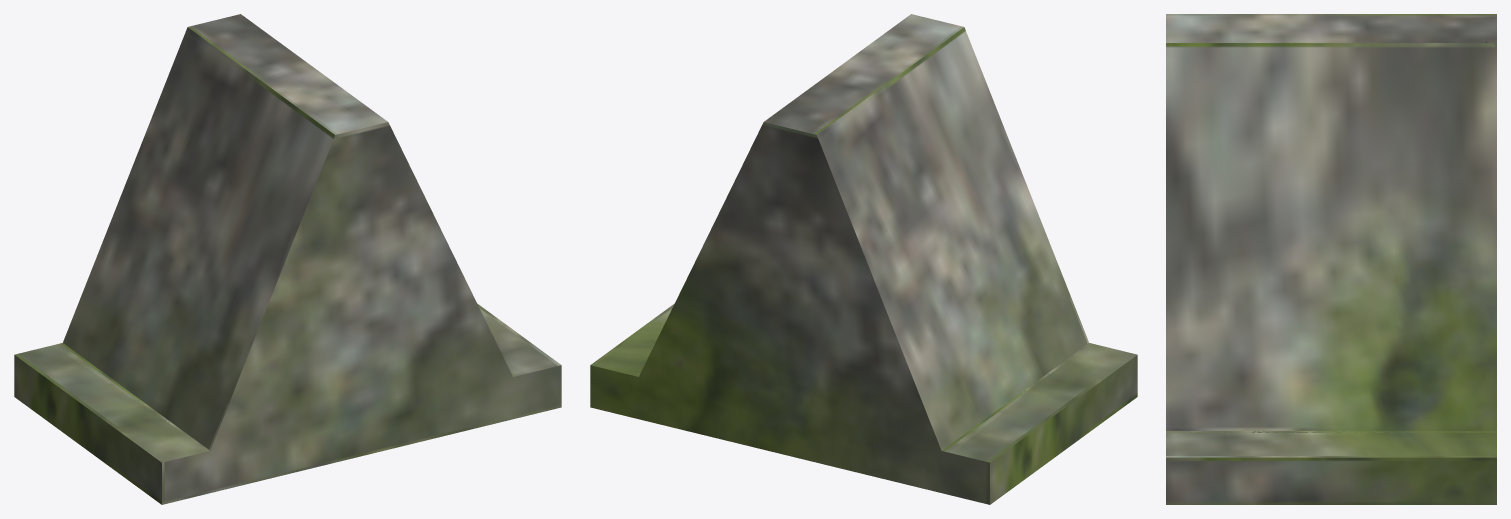
File: obstaculo triangular.fbx
3 views of the same model, side by side, from view 1: azimuth 30°, elevation 25°; view 2: azimuth 150°, elevation 25°; view 3: azimuth 270°, elevation 25° (orthographic). The views are drawn at different scales.
Parts seen in each view (by area): view 1: obstaculoTriangular; view 2: obstaculoTriangular; view 3: obstaculoTriangular.
Part boxes in pixels (x1,y1,x2,y2): obstaculoTriangular: (14,14,561,504); obstaculoTriangular: (590,14,1137,504); obstaculoTriangular: (1166,14,1496,504).
Bounding box in the file's own units: 19.32 × 15.14 × 12.36.
Materials: 1 (1 with a texture image).
